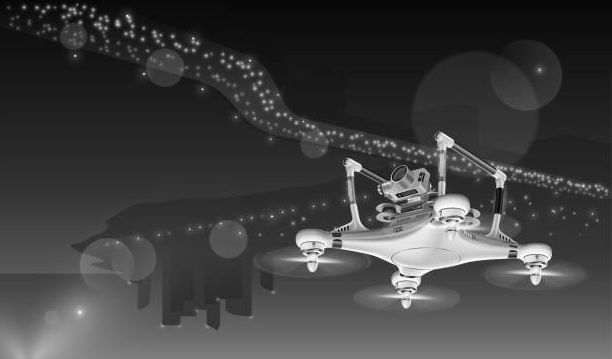Drone: (258, 131, 583, 311)
